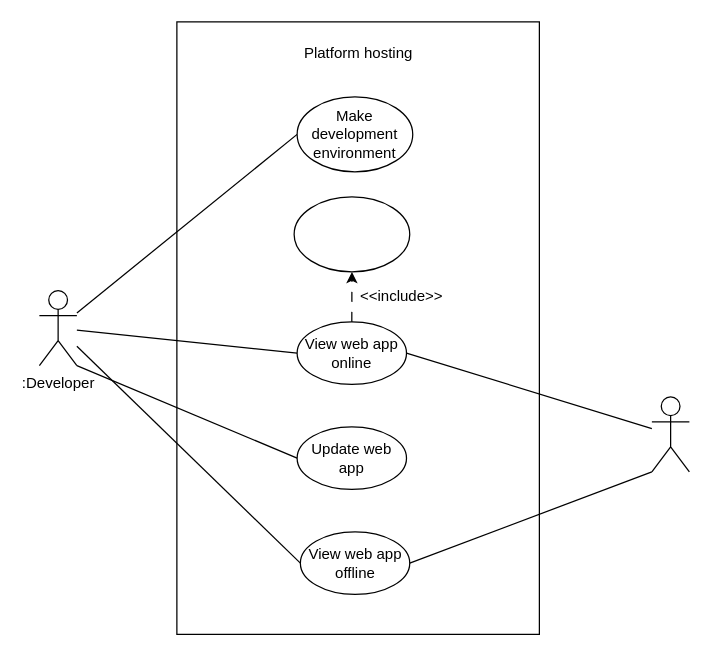
Image size: 711x666. Some labels were removed from this diagram. Here are the shapes that lost their labels. From the top down, the box of each, then its label:
(293, 196, 410, 272): Establish internet connection
(651, 396, 689, 472): :User
